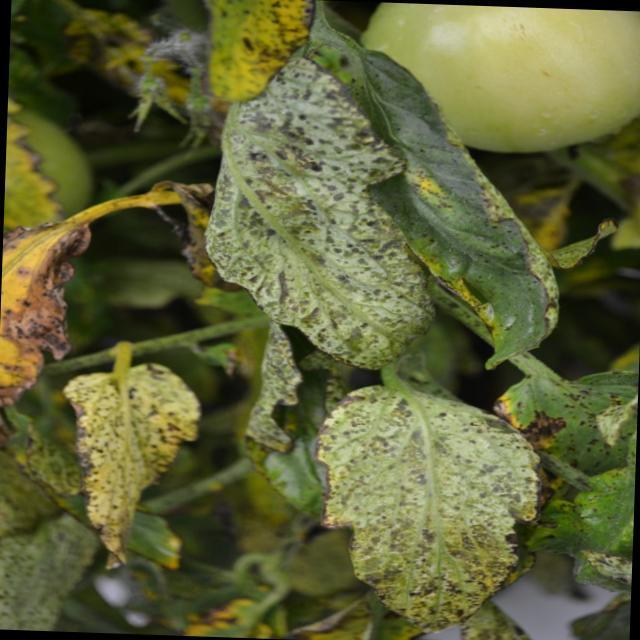Bacterial Spot: (227, 51, 424, 370), (322, 385, 520, 629), (46, 356, 202, 567)
